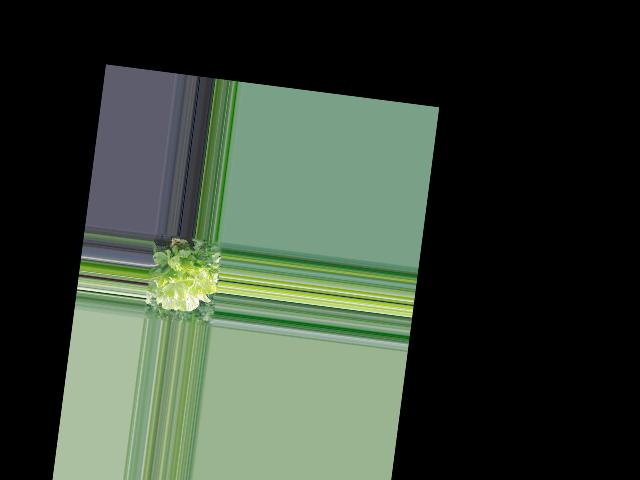lettuce: (146, 247, 214, 313)
